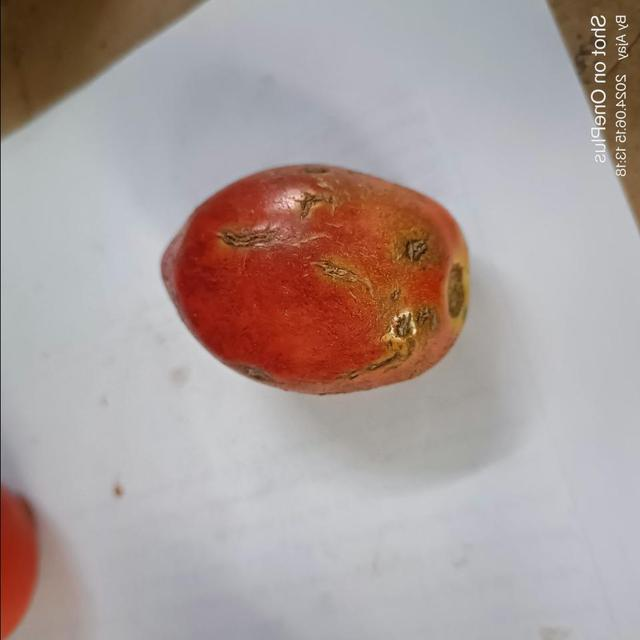Bacterial Spot Fruit: (14, 16, 278, 217)
